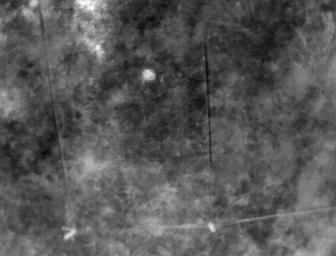landmine: (142, 69, 158, 82)
